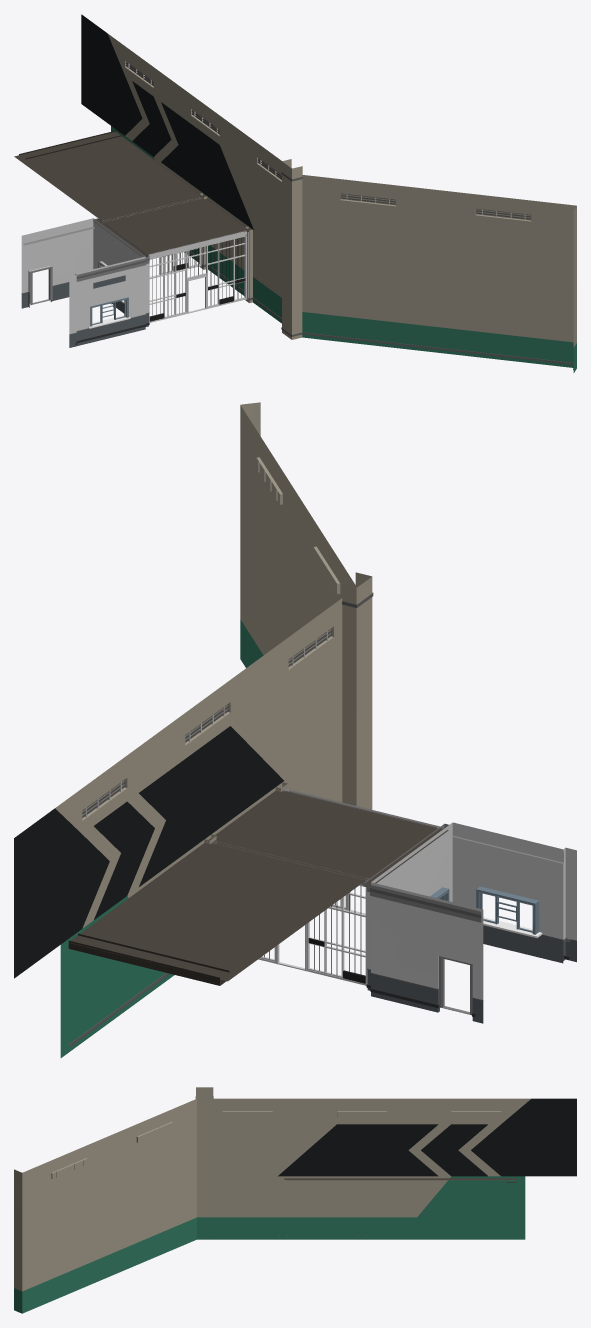
Rendered from SM_H_Building_Tide_MedicalRoom_19_ATLAS.fbx.
3 views of the same model, one above another, from view 1: azimuth 30°, elevation 25°; view 2: azimuth 150°, elevation 25°; view 3: azimuth 270°, elevation 25° (orthographic). The views are drawn at different scales.
Visible parts, largest first — view 1: SM_H_Building_Tide_MedicalRoom_19_ATLAS; view 2: SM_H_Building_Tide_MedicalRoom_19_ATLAS; view 3: SM_H_Building_Tide_MedicalRoom_19_ATLAS.
Part boxes in pixels (box(x1,y1,x2,y2)): SM_H_Building_Tide_MedicalRoom_19_ATLAS: box(14, 14, 576, 372); SM_H_Building_Tide_MedicalRoom_19_ATLAS: box(14, 402, 576, 1057); SM_H_Building_Tide_MedicalRoom_19_ATLAS: box(14, 1087, 576, 1313).
Bounding box in the file's own units: 2973 × 4630 × 1347.
